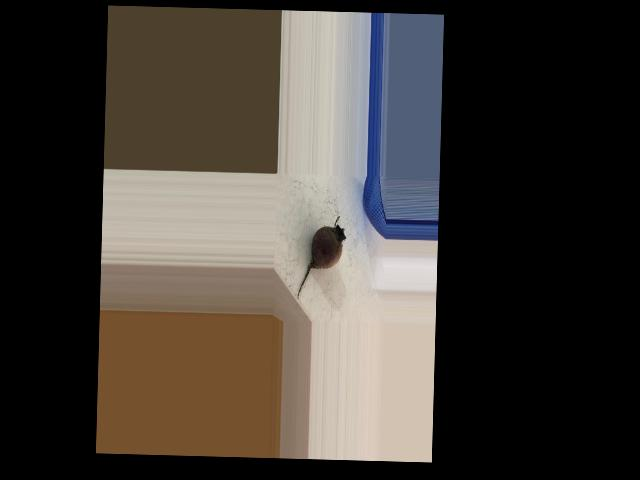beet: (296, 215, 346, 300)
